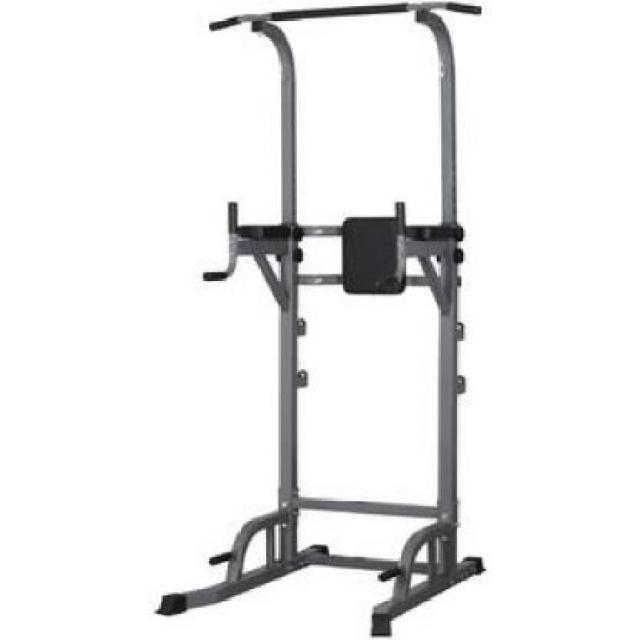chinning dipping: (150, 0, 488, 634)
